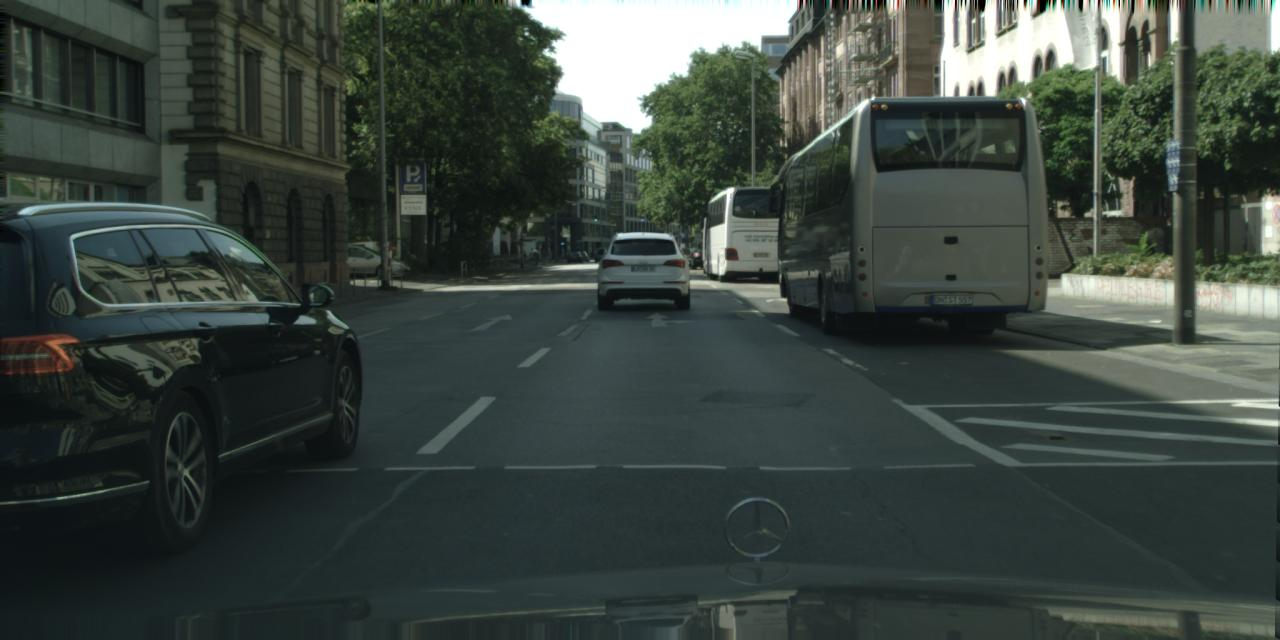ped: (518, 247, 526, 265), (528, 247, 536, 264)
